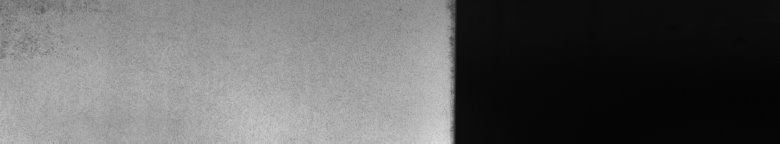ib: (4, 4, 103, 63)
